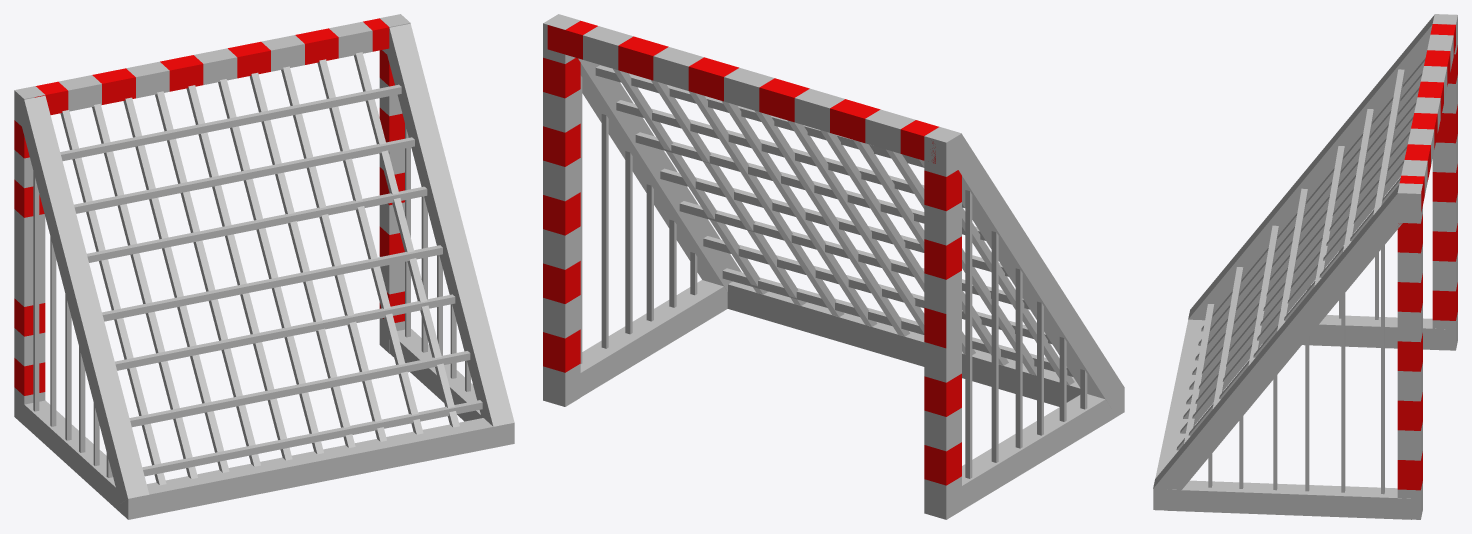
File: 1fbff756-5656-4e8c-ada5-5d968ca95e17.glb
3 views of the same model, side by side, from view 1: azimuth 30°, elevation 25°; view 2: azimuth 150°, elevation 25°; view 3: azimuth 270°, elevation 25° (orthographic). The views are drawn at different scales.
Parts seen in each view (by area): view 1: Box004, Box003, Box006, Box005, Box001, Box002, Box038, Box035, Box033, Box032, Box036, Box034 (+19 smaller); view 2: Box005, Box001, Box002, Box004, Box006, Box003, Box007, Box008, Box026, Box027, Box028, Box029 (+23 smaller); view 3: Box003, Box002, Box007, Box004, Box001, Box005, Box008, Box006, Box028, Box027, Box026, Box025 (+16 smaller).
Boxes of the visible parts, x1,y1,x2,y2 form: Box004: [16, 95, 149, 503]; Box003: [386, 23, 514, 426]; Box006: [122, 418, 514, 519]; Box005: [34, 18, 389, 114]; Box001: [14, 86, 45, 425]; Box002: [379, 14, 410, 353]; Box038: [60, 84, 401, 160]; Box035: [74, 137, 414, 213]; Box033: [102, 245, 442, 321]; Box032: [129, 351, 470, 427]; Box036: [87, 186, 427, 262]; Box034: [115, 294, 455, 370]; Box005: [547, 21, 938, 163]; Box001: [924, 127, 961, 519]; Box002: [543, 14, 580, 406]; Box004: [949, 134, 1124, 409]; Box006: [727, 281, 1124, 417]; Box003: [578, 58, 741, 291]; Box007: [580, 280, 727, 396]; Box008: [962, 394, 1115, 510]; Box026: [754, 110, 909, 336]; Box027: [721, 101, 877, 326]; Box028: [688, 91, 844, 316]; Box029: [651, 80, 806, 305]; Box003: [1153, 184, 1415, 498]; Box002: [1397, 183, 1422, 519]; Box007: [1167, 480, 1411, 519]; Box004: [1188, 15, 1434, 320]; Box001: [1432, 14, 1457, 350]; Box005: [1399, 24, 1455, 211]; Box008: [1263, 315, 1446, 350]; Box006: [1153, 319, 1204, 510]; Box028: [1180, 160, 1404, 433]; Box027: [1183, 146, 1407, 418]; Box026: [1186, 131, 1410, 404]; Box025: [1189, 117, 1413, 389].
Size of the model in its own units: 672742 by 541017 by 458577.
